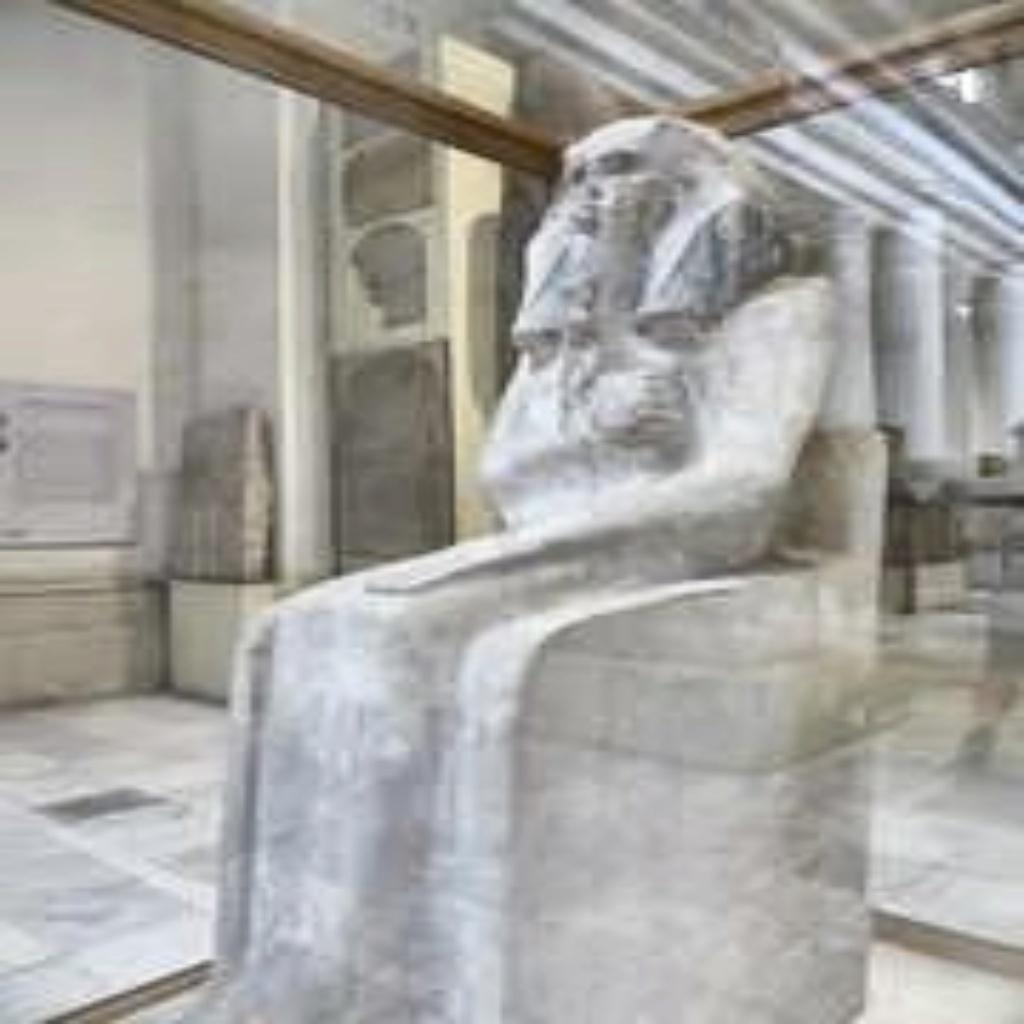Statue of King Zoser: (142, 106, 893, 1020)
